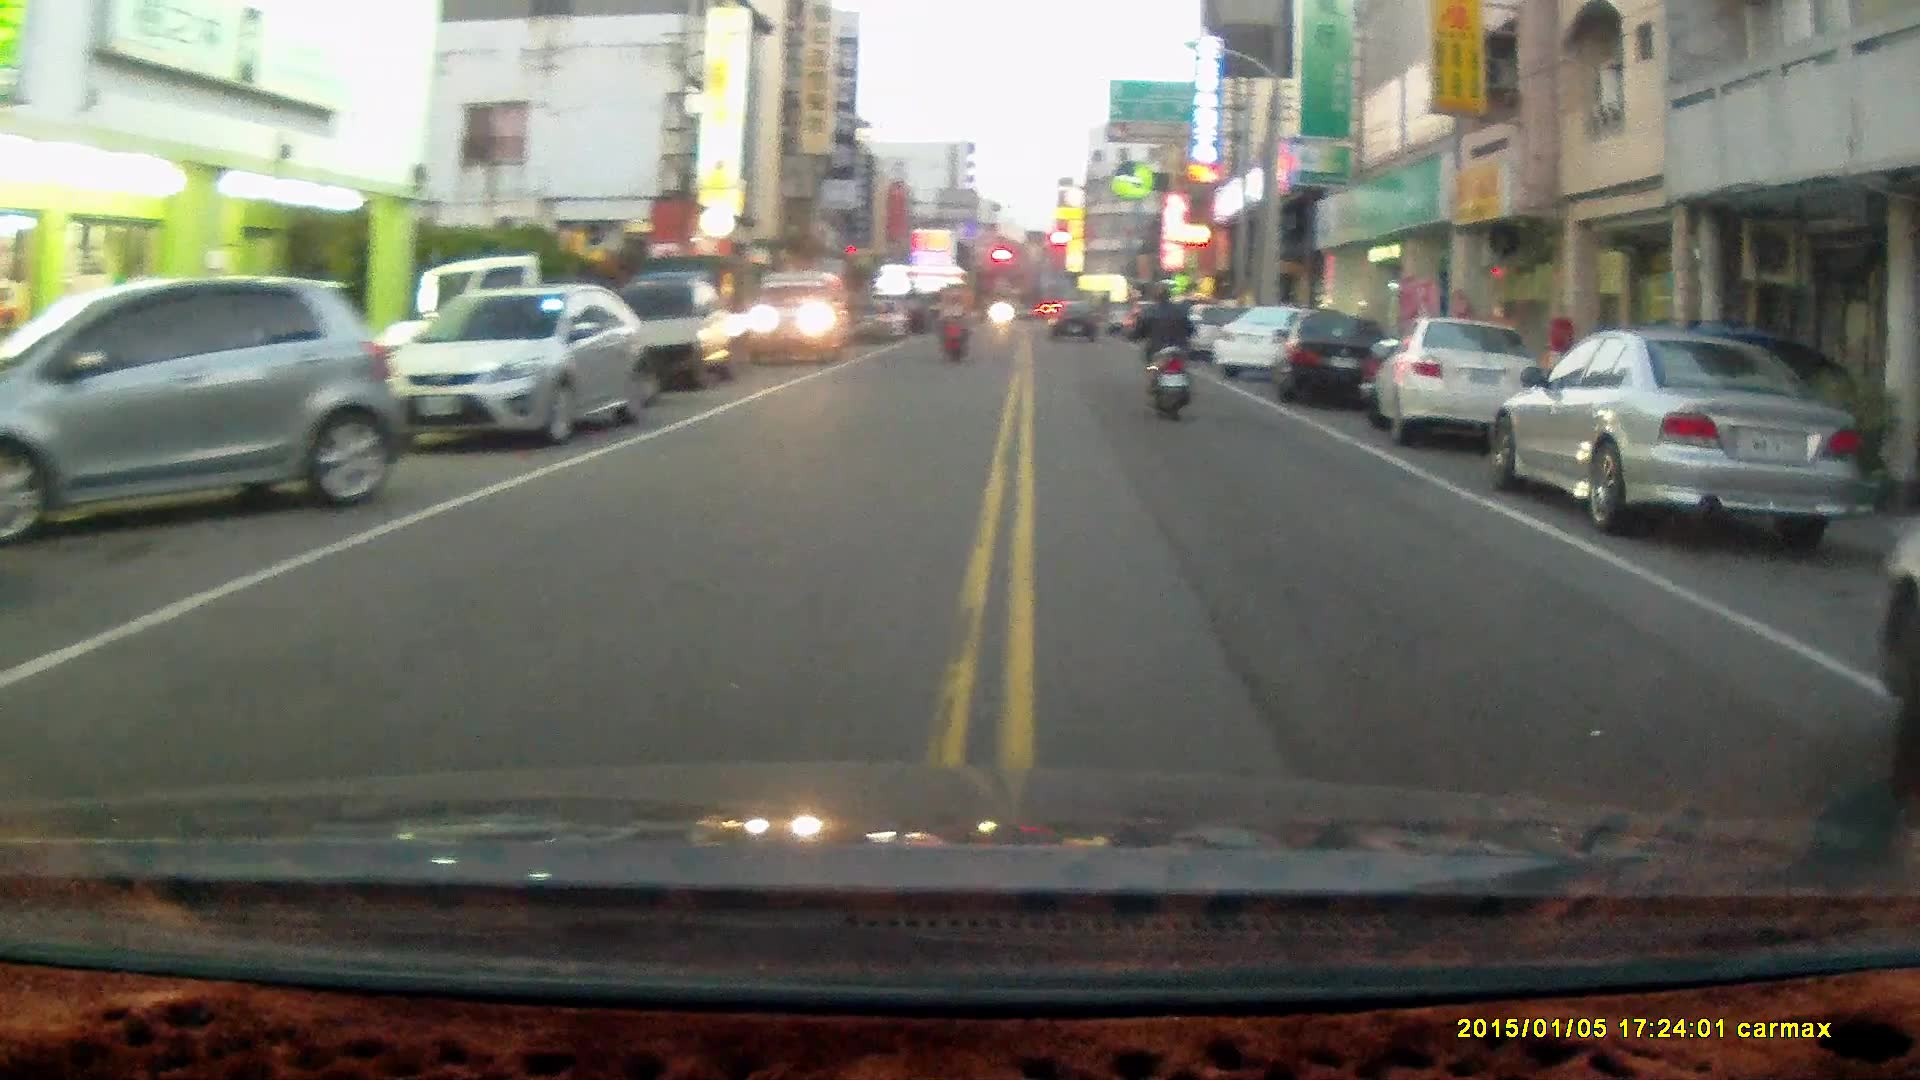rider: (1130, 280, 1197, 423), (937, 283, 969, 366)
vehicle: (1, 276, 404, 549), (1498, 324, 1871, 541), (382, 282, 651, 450), (1378, 316, 1552, 446), (603, 270, 748, 395), (1274, 305, 1393, 411), (751, 267, 858, 365)
